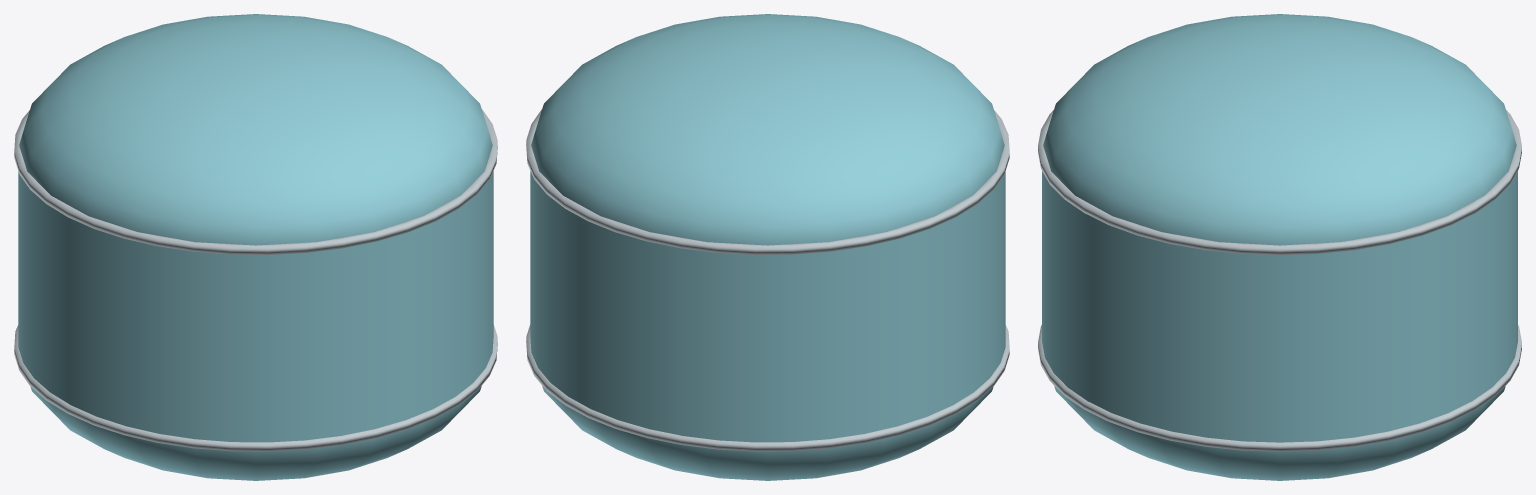
The model's file is icps_lh2_vessel.glb.
3 views of the same model, side by side, from view 1: azimuth 30°, elevation 25°; view 2: azimuth 150°, elevation 25°; view 3: azimuth 270°, elevation 25° (orthographic).
Parts seen in each view (by area): view 1: icpscutawayhydrogenmesh_Cutaway_liquid_hydrogen, icpscutawayhydrogenmesh_Satin_aluminum; view 2: icpscutawayhydrogenmesh_Cutaway_liquid_hydrogen, icpscutawayhydrogenmesh_Satin_aluminum; view 3: icpscutawayhydrogenmesh_Cutaway_liquid_hydrogen, icpscutawayhydrogenmesh_Satin_aluminum.
Boxes of the visible parts, x1=… form: icpscutawayhydrogenmesh_Cutaway_liquid_hydrogen: x1=18, y1=14, x2=493, y2=480; icpscutawayhydrogenmesh_Satin_aluminum: x1=14, y1=109, x2=497, y2=451; icpscutawayhydrogenmesh_Cutaway_liquid_hydrogen: x1=530, y1=14, x2=1005, y2=480; icpscutawayhydrogenmesh_Satin_aluminum: x1=526, y1=109, x2=1009, y2=451; icpscutawayhydrogenmesh_Cutaway_liquid_hydrogen: x1=1042, y1=14, x2=1517, y2=480; icpscutawayhydrogenmesh_Satin_aluminum: x1=1038, y1=110, x2=1521, y2=451.
Bounding box in the file's own units: 4.7 × 4.05 × 4.7.
